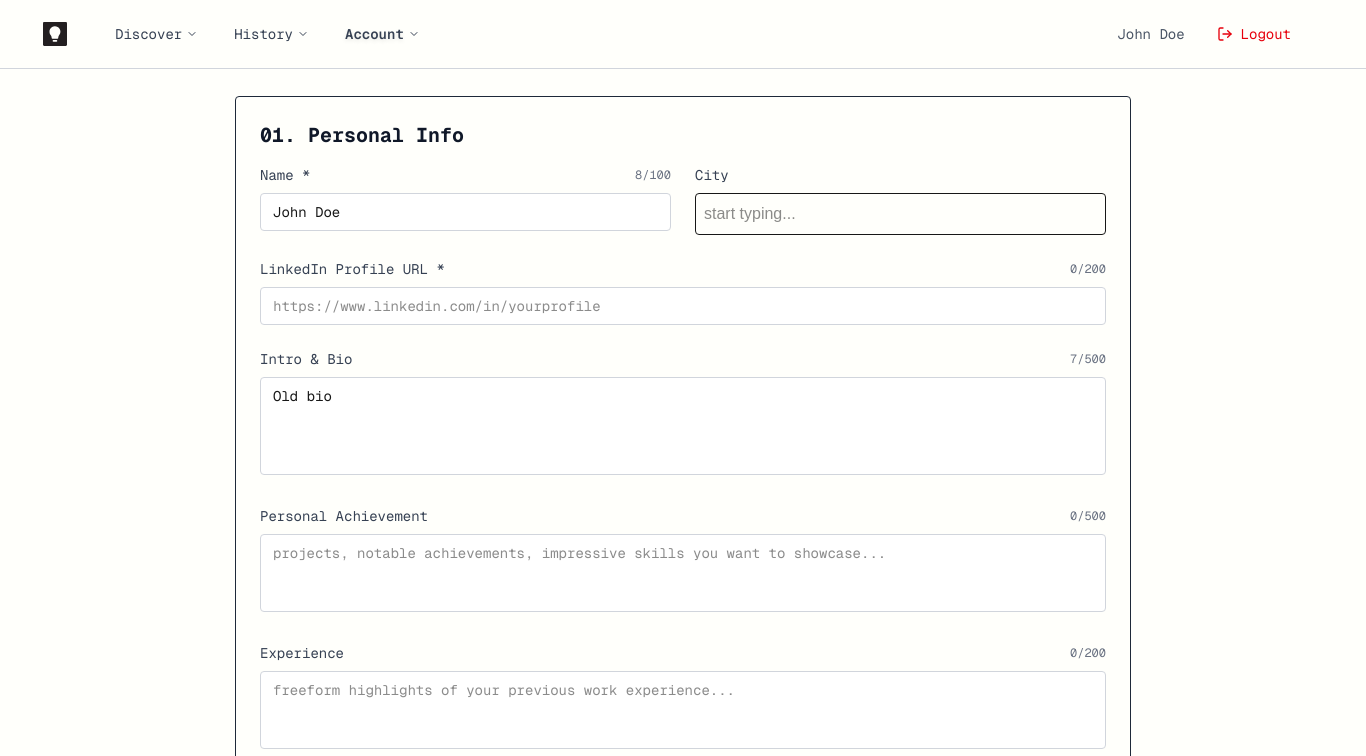
Test case: ProfilePage Integration Tests › should update existing profile data
# Update the name
Replace the text in the field showing "John Doe" with "John Updated" at {"x": 466, "y": 212}, box [260,193,671,231]
(page scrolled)
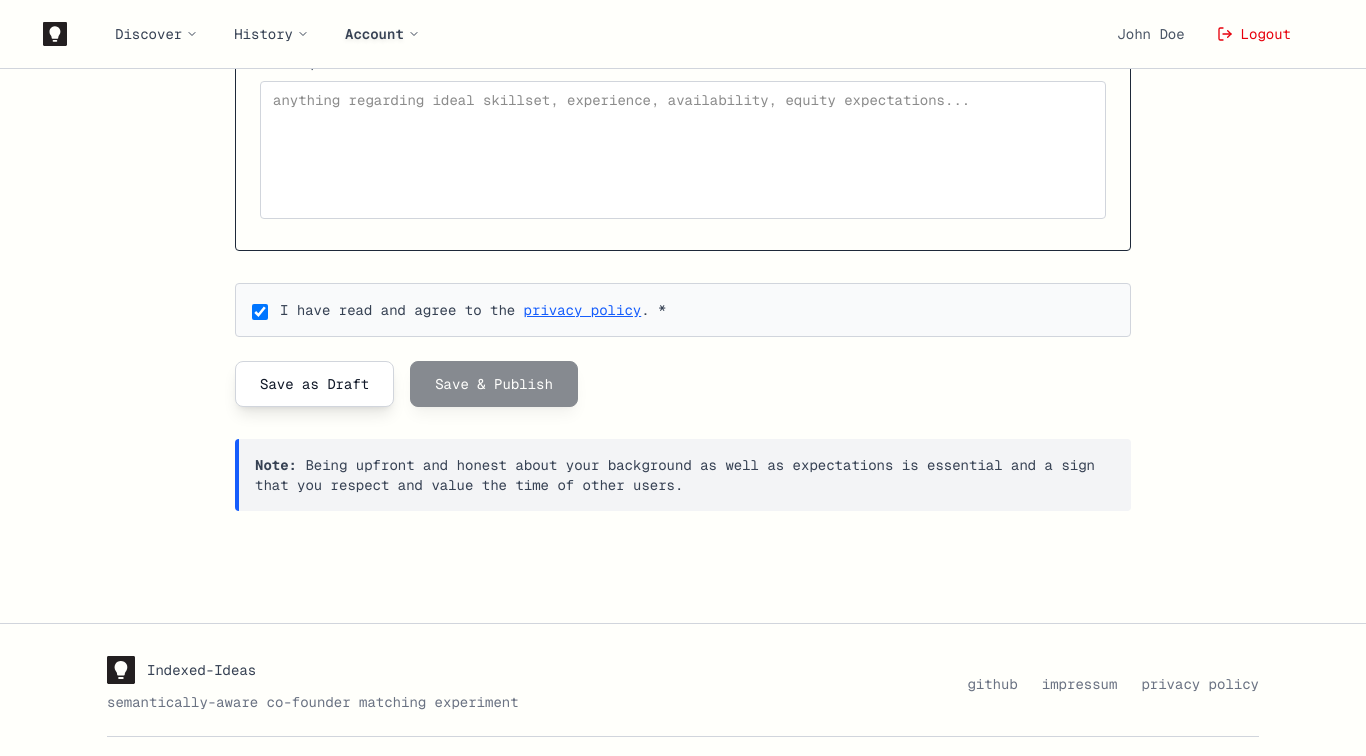
# Save draft
Click the button "Save as Draft" at {"x": 315, "y": 384}, box [235,361,394,407]
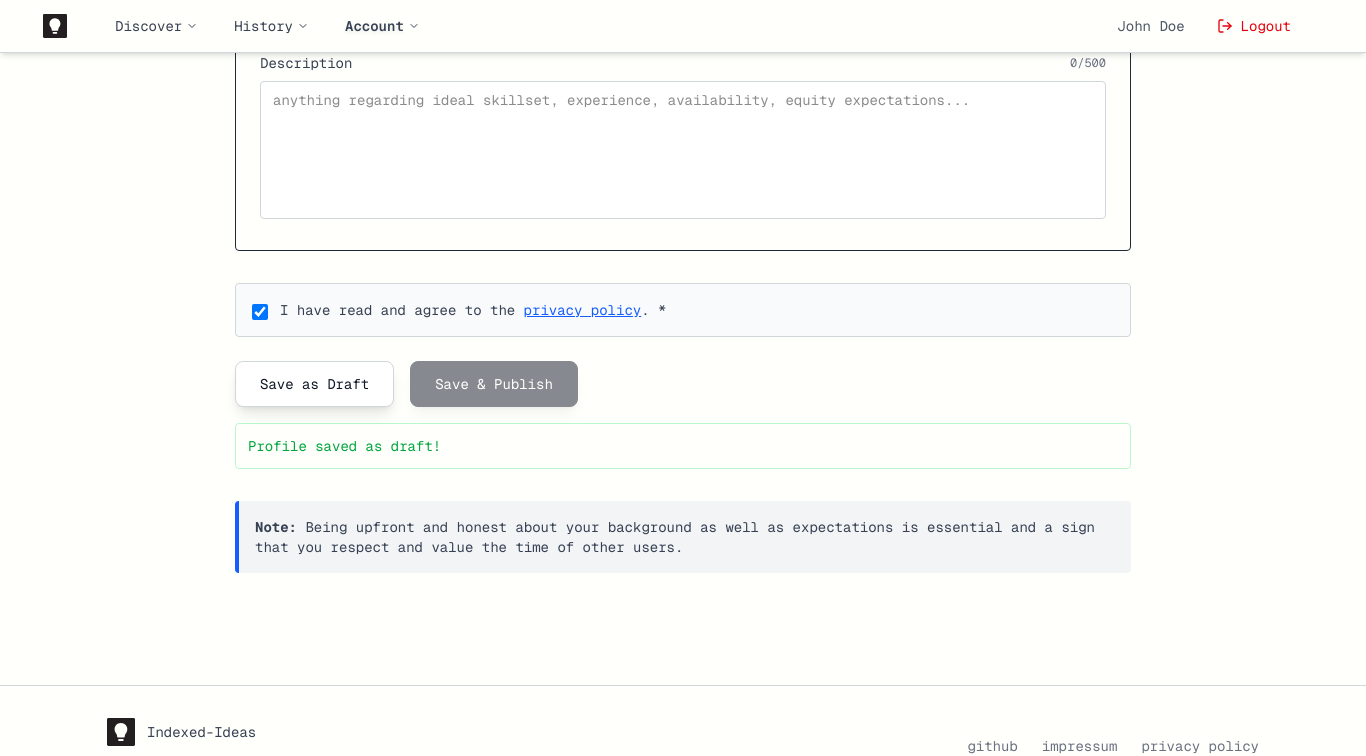
Check: the text "Profile saved as draft!" is shown, box [235,423,1131,469]
